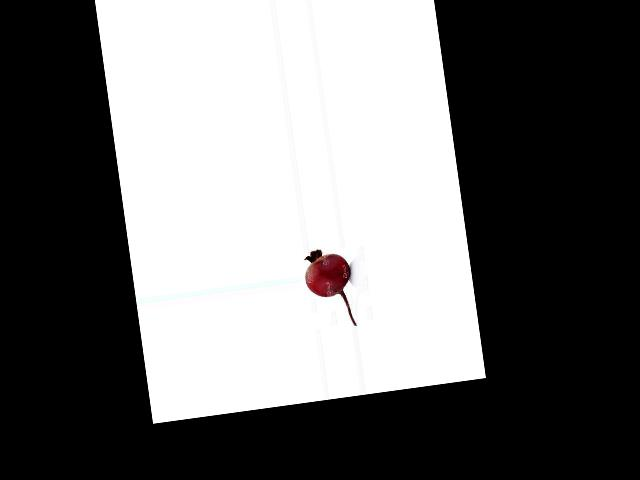beet: (302, 245, 357, 331)
